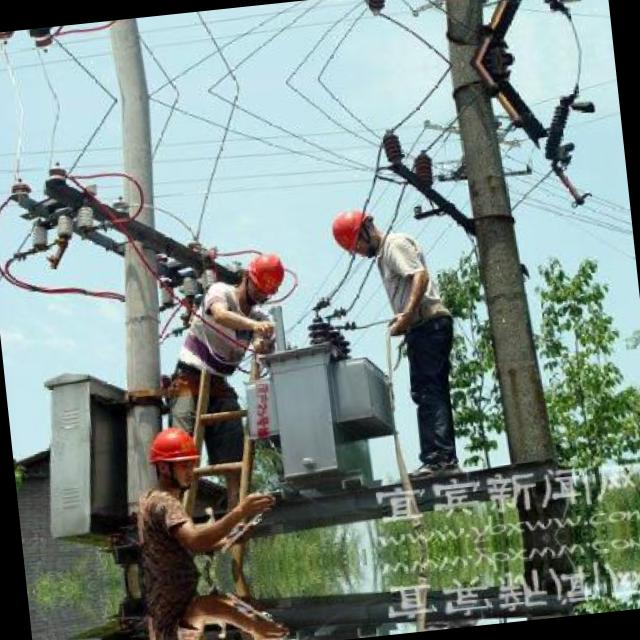helmet: (144, 421, 204, 488), (234, 244, 294, 305), (322, 202, 384, 258)
